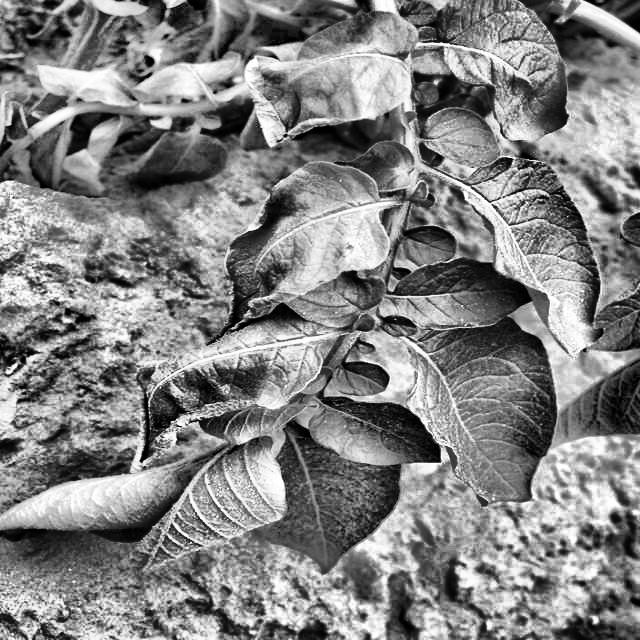plants: (0, 17, 639, 573), (12, 464, 292, 564), (224, 160, 380, 330), (240, 30, 419, 148)
